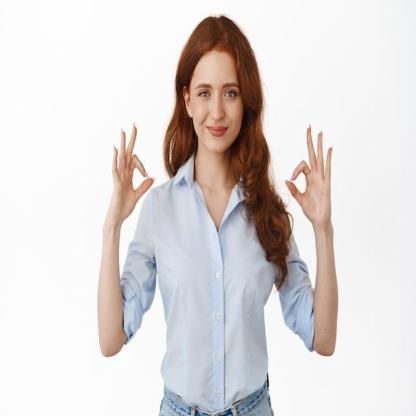ok: (282, 119, 336, 230), (108, 119, 158, 216)
